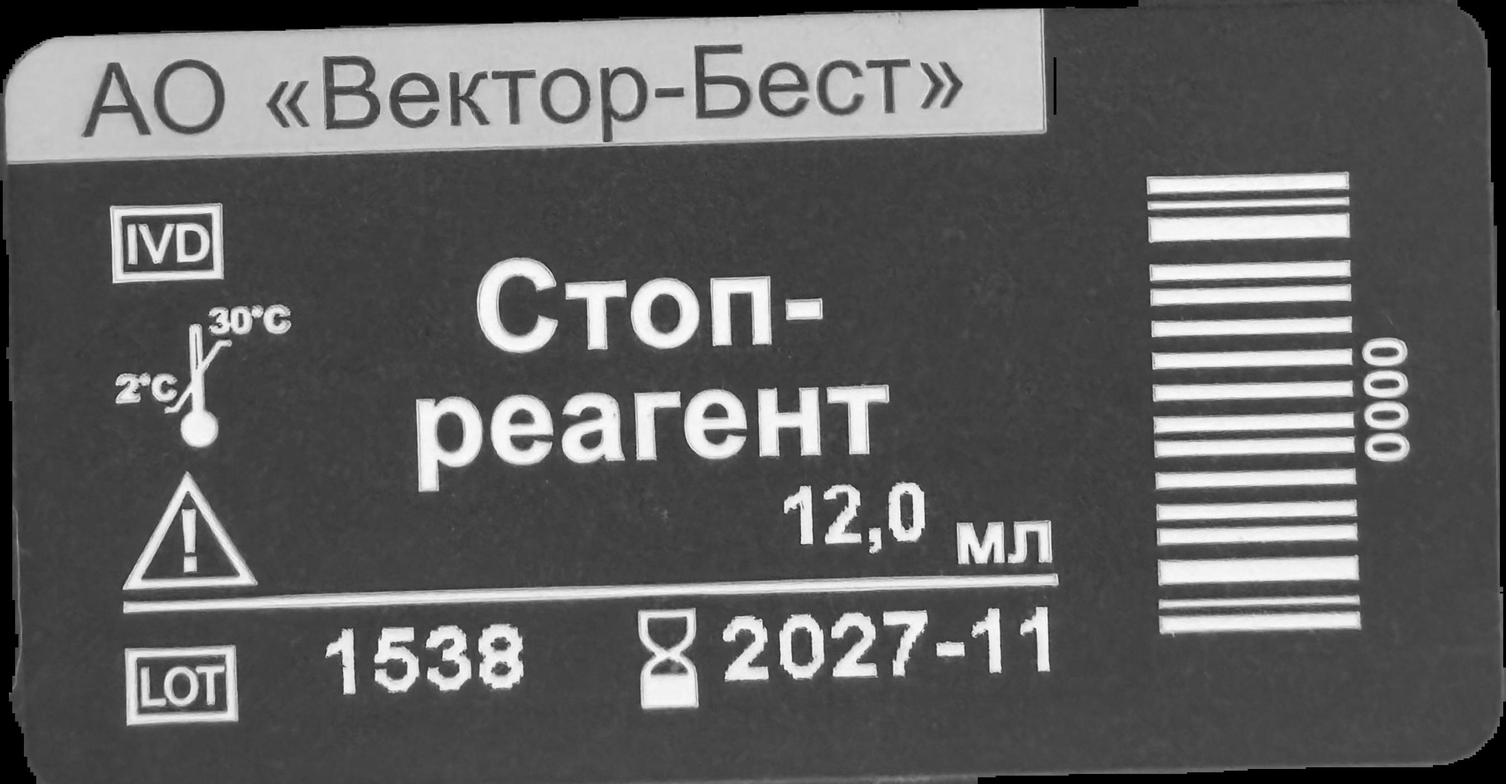something: (1138, 169, 1363, 637), (110, 298, 297, 454), (121, 471, 261, 595), (102, 198, 233, 288), (122, 642, 238, 725), (633, 603, 704, 717)
text: (404, 255, 902, 493), (81, 42, 967, 145), (720, 608, 1053, 685), (780, 484, 1059, 568), (322, 624, 530, 702), (1360, 335, 1413, 465)
